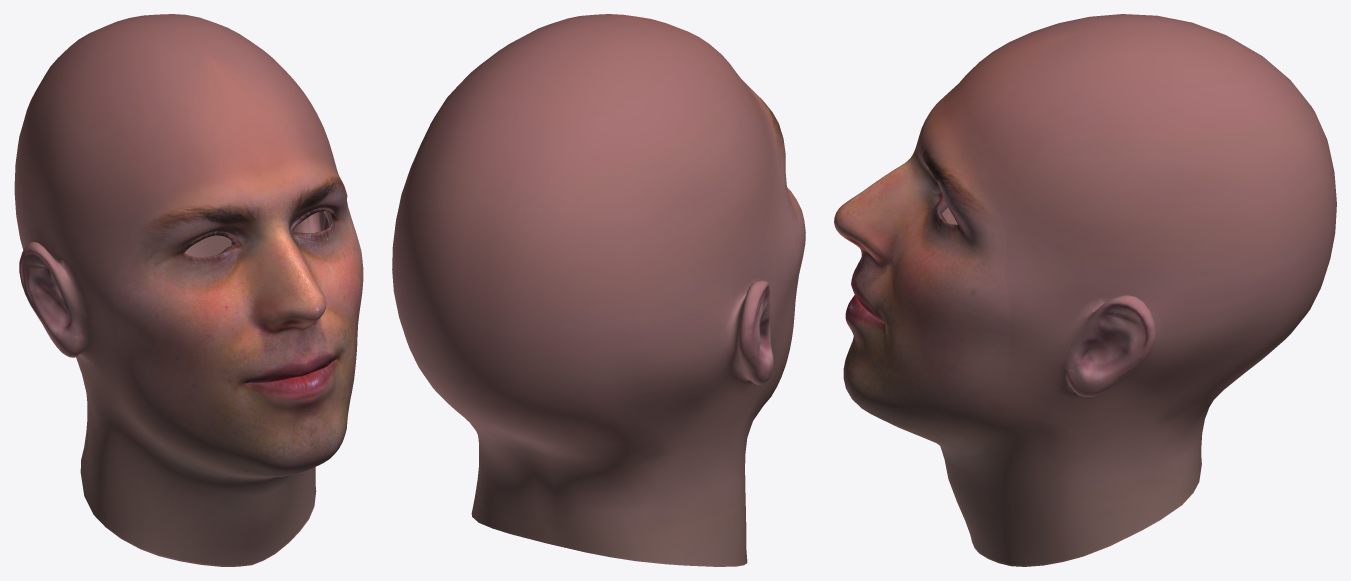
3 renders of one model, left to right at view 1: azimuth 30°, elevation 25°; view 2: azimuth 150°, elevation 25°; view 3: azimuth 270°, elevation 25°, orthographic. The views are drawn at different scales.
Parts seen in each view (by area): view 1: FaceGen; view 2: FaceGen; view 3: FaceGen.
Part boxes in pixels (x1,y1,x2,y2): FaceGen: (14,14,363,566); FaceGen: (392,14,805,566); FaceGen: (834,14,1336,566).
Bounding box in the file's own units: 182 × 276 × 245.
1 material, 1 textured.
